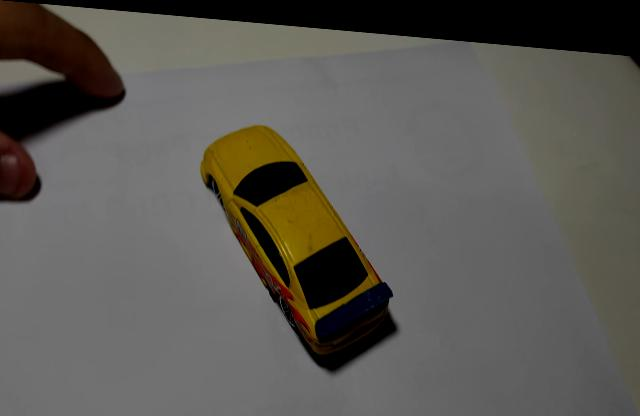02_OZSOME: (200, 121, 393, 353)
